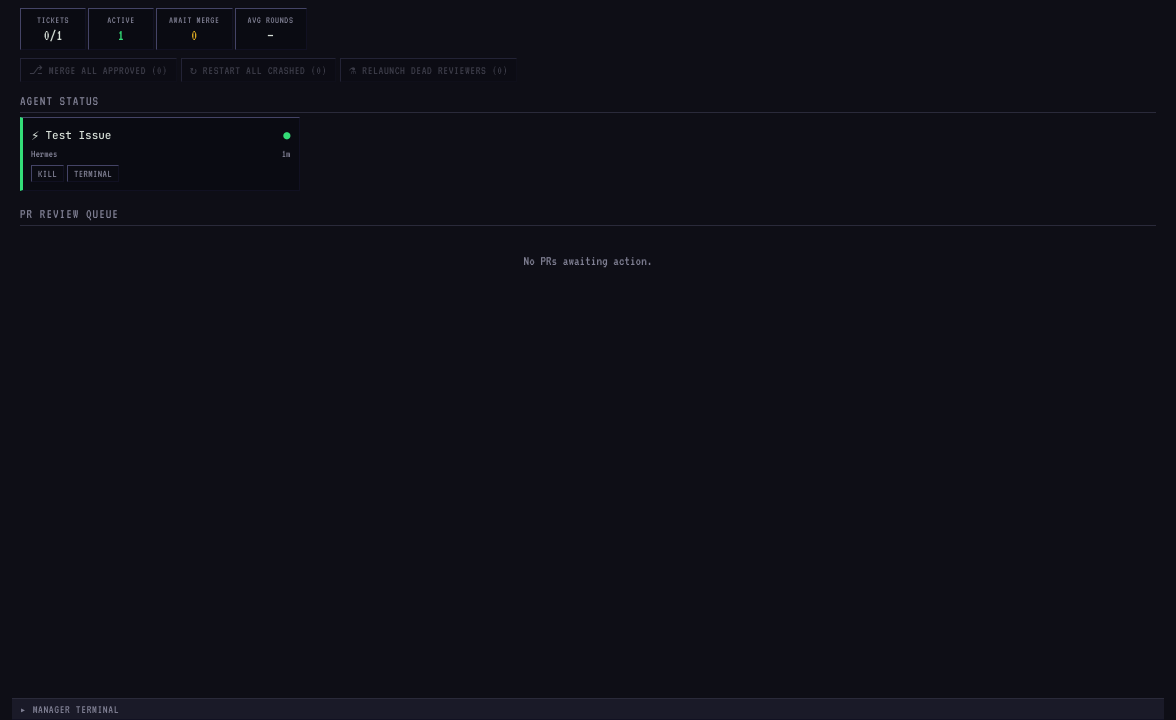
Test: ManagerView › Quick Actions › shows error when Kill fails
Click the button "KILL" at (48, 173), box top-left (31, 165), bottom-right (64, 182)
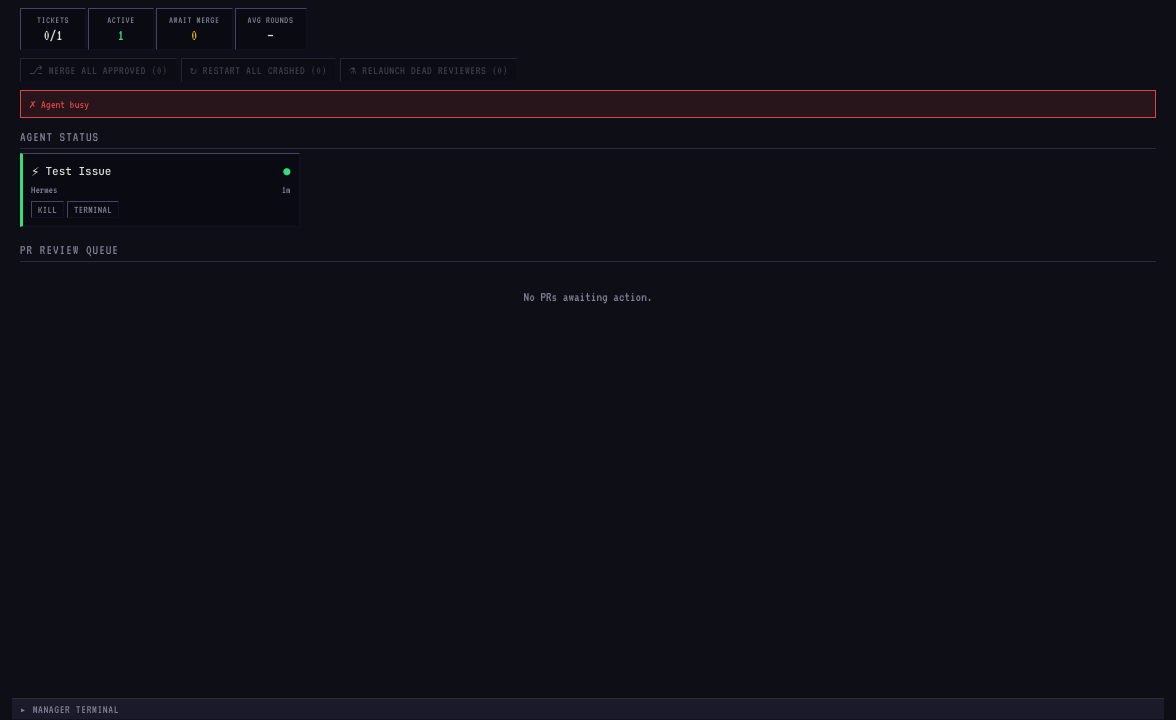
Expected: the text "✗ Agent busy" is shown, top-left (20, 90), bottom-right (1156, 118)
